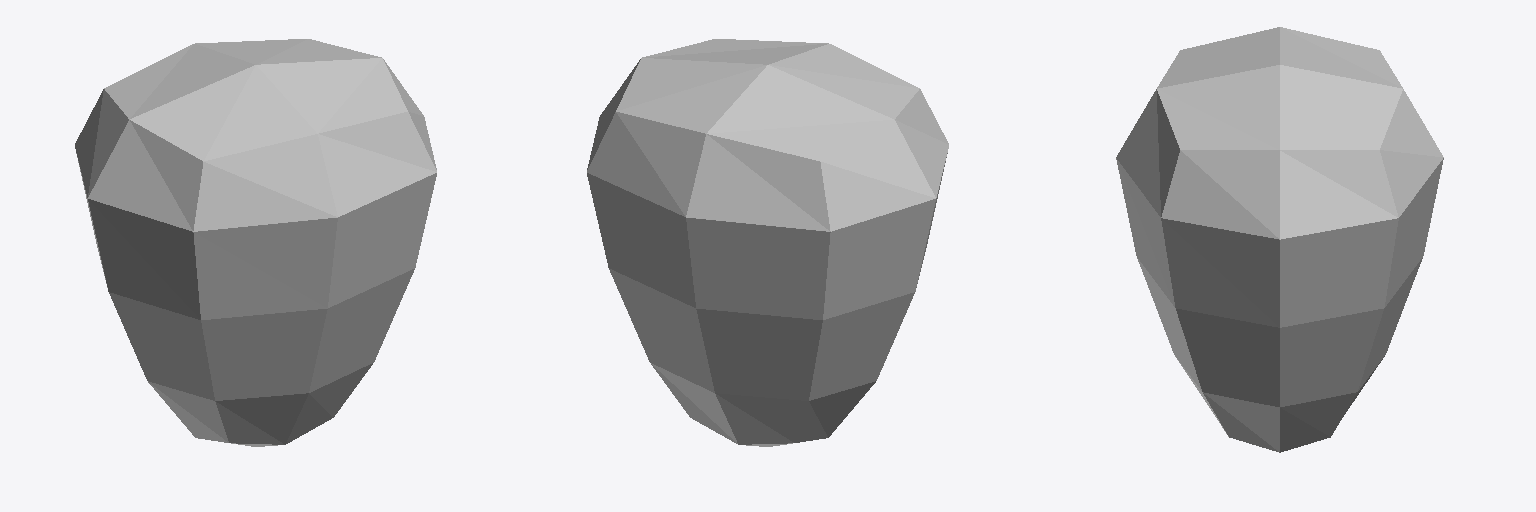
File: Strawberry_Topping.obj
3 views of the same model, side by side, from view 1: azimuth 30°, elevation 25°; view 2: azimuth 150°, elevation 25°; view 3: azimuth 270°, elevation 25° (orthographic).
Parts seen in each view (by area): view 1: Strawberry.001; view 2: Strawberry.001; view 3: Strawberry.001.
Part boxes in pixels (left/top/right/bottom): Strawberry.001: left=75, top=39, right=436, bottom=446; Strawberry.001: left=587, top=39, right=948, bottom=446; Strawberry.001: left=1116, top=27, right=1443, bottom=452.
Bounding box in the file's own units: 0.5325 × 0.578 × 0.4492.